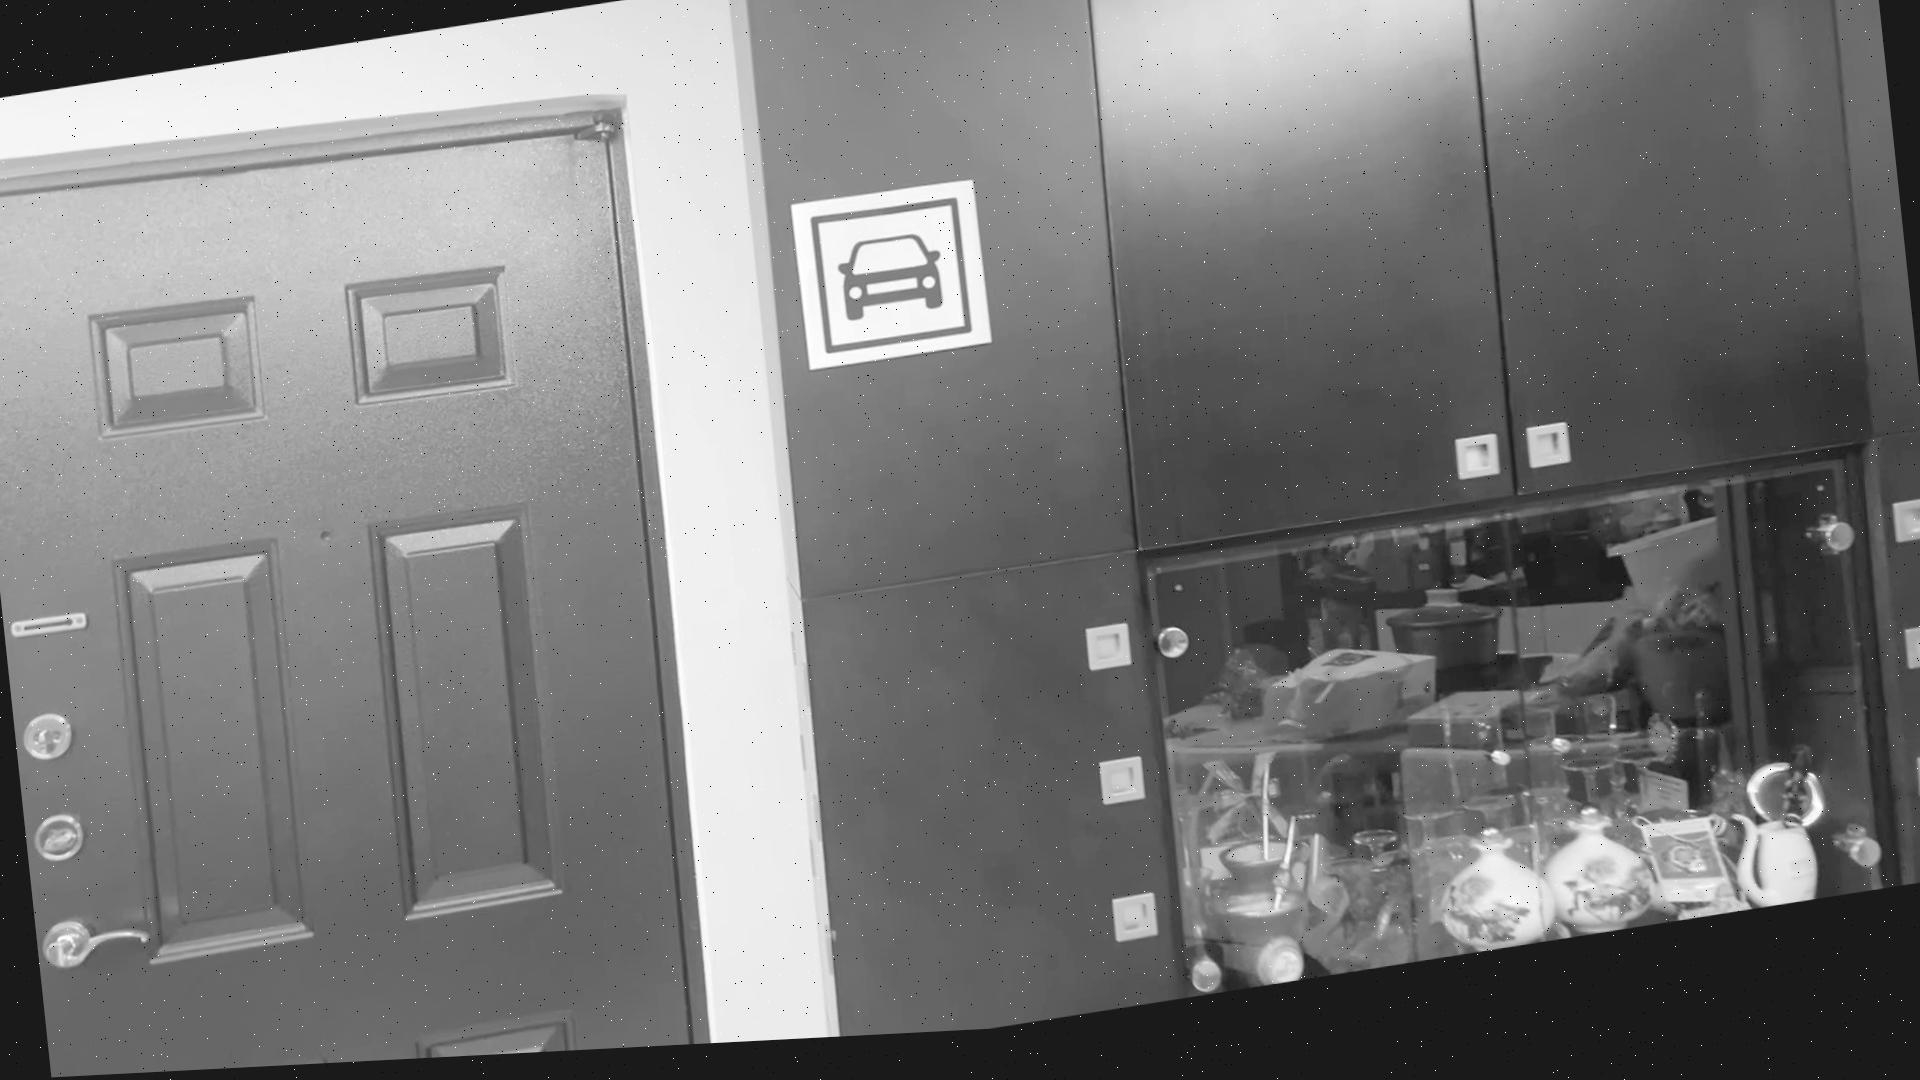car_img: (803, 198, 977, 372)
